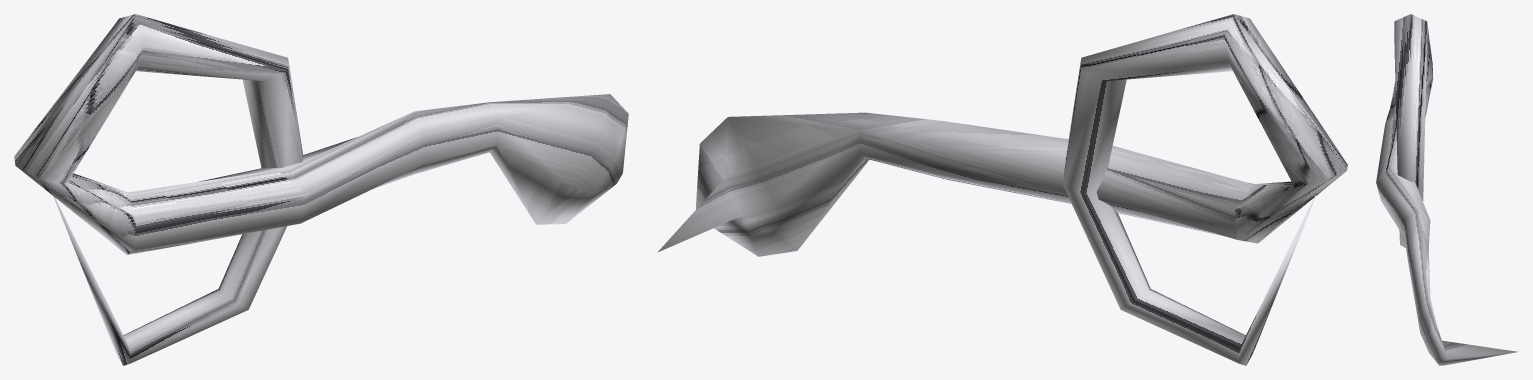
The model's file is snake_000089.obj.
3 renders of one model, left to right at view 1: azimuth 30°, elevation 25°; view 2: azimuth 150°, elevation 25°; view 3: azimuth 270°, elevation 25°, orthographic. The views are drawn at different scales.
Visible parts, largest first — view 1: Cylinder; view 2: Cylinder; view 3: Cylinder.
Boxes of the visible parts, left/top/right/bottom form: Cylinder: left=14, top=14, right=628, bottom=365; Cylinder: left=657, top=14, right=1347, bottom=365; Cylinder: left=1376, top=14, right=1517, bottom=365.
Size of the model in its own units: 4.61 by 2.44 by 1.43.
